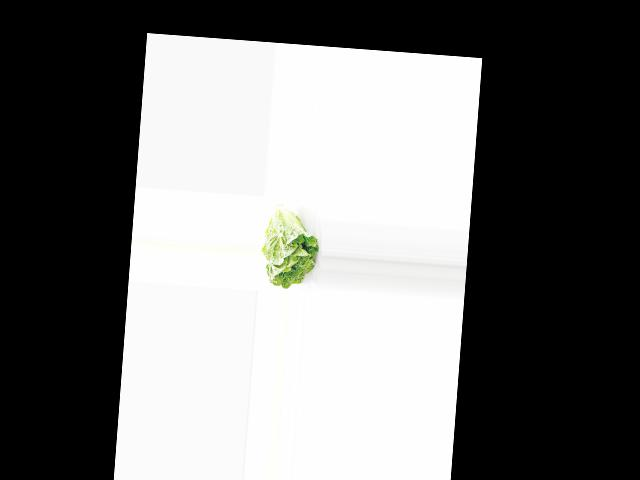lettuce: (258, 204, 322, 290)
